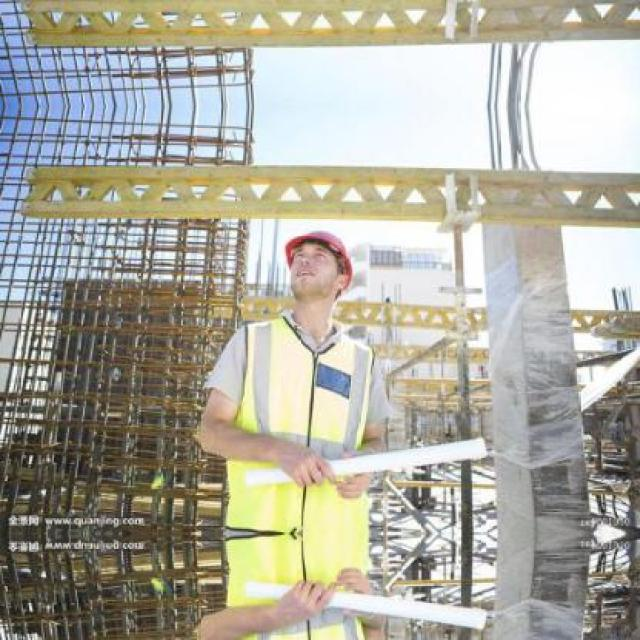helmet: (273, 216, 364, 316)
